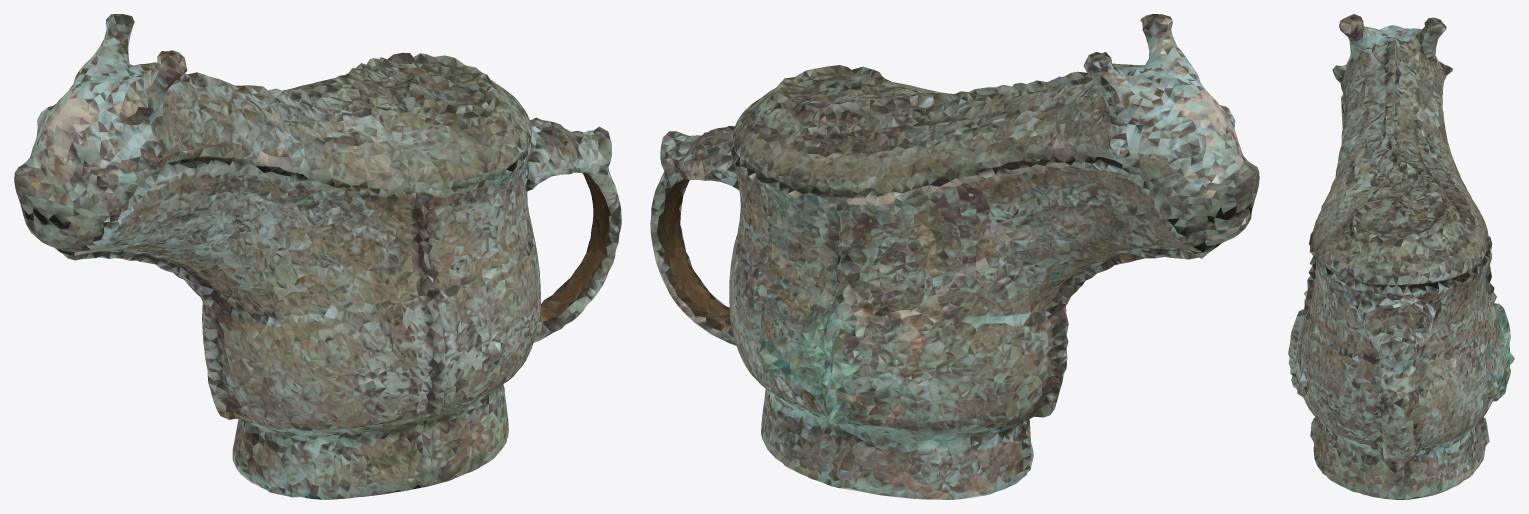
File: gong.glb
3 views of the same model, side by side, from view 1: azimuth 30°, elevation 25°; view 2: azimuth 150°, elevation 25°; view 3: azimuth 270°, elevation 25° (orthographic). The views are drawn at different scales.
Visible parts, largest first — view 1: Object_3; view 2: Object_3; view 3: Object_3.
Part boxes in pixels (x1,y1,x2,y2): Object_3: (14, 14, 621, 499); Object_3: (650, 14, 1259, 499); Object_3: (1288, 14, 1514, 499).
Size of the model in its own units: 14.86 by 11.36 by 6.47.
1 material, 1 textured.
